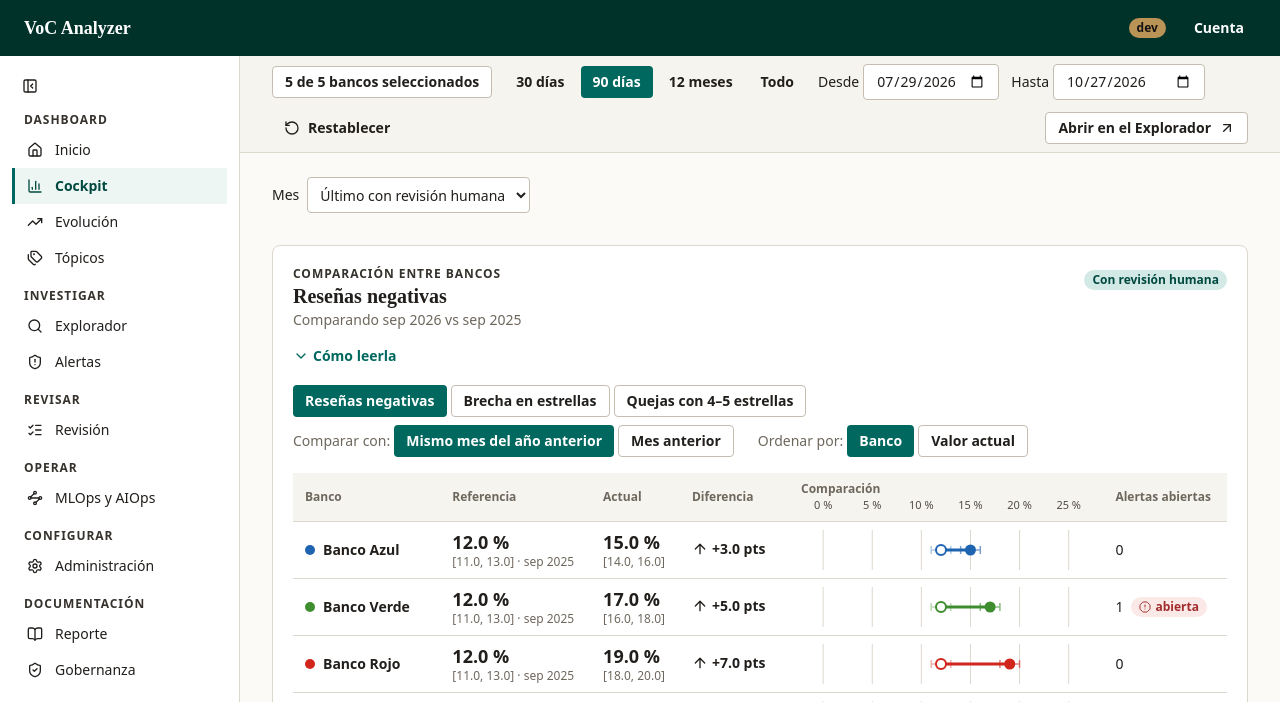
Test: cockpit, pestaña Diario › el KPI se elige con botones y queda en la URL
Check: the row "Banco Azul" is shown, box [293, 522, 1227, 578]
What coordinates should you click on to do the following:
click the button "Brecha en estrellas"
I would click on:
 (530, 401)
Its box is [450, 385, 610, 417].
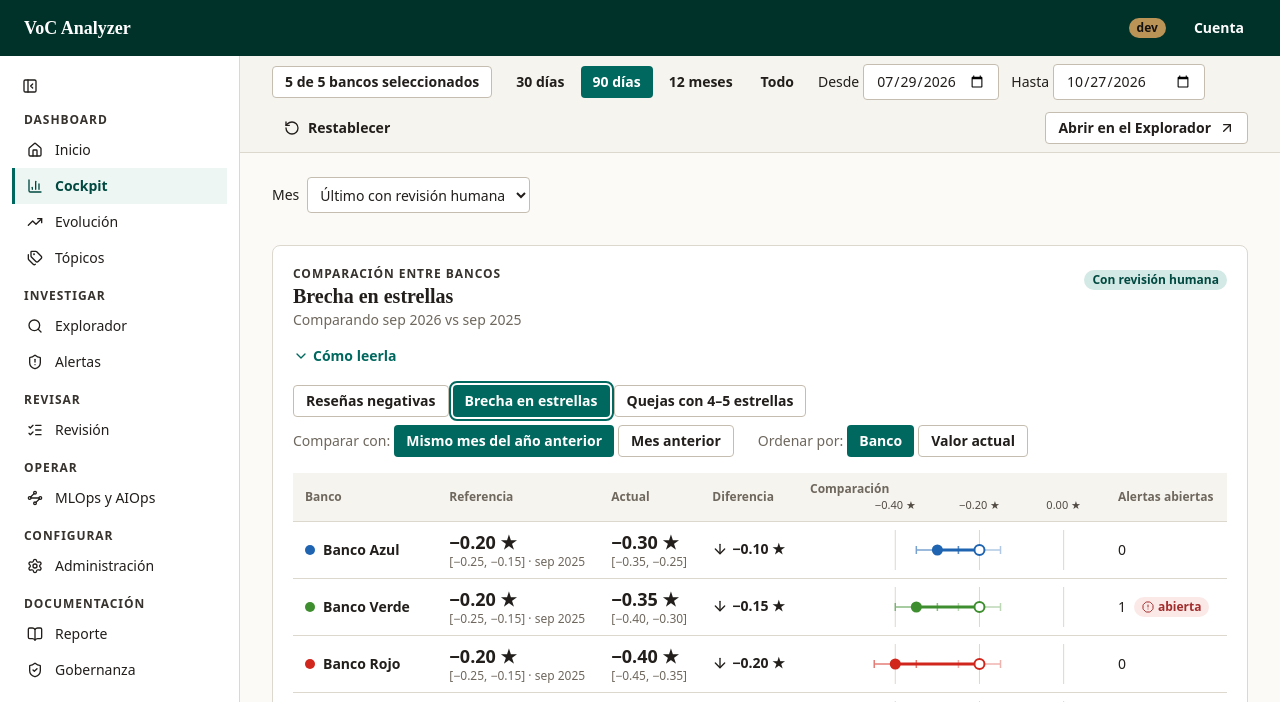
Check: the text "[−0.35, −0.25]" is shown, box [611, 554, 688, 570]
Check: the text "−0.30 ★" is shown, box [611, 530, 688, 554]
